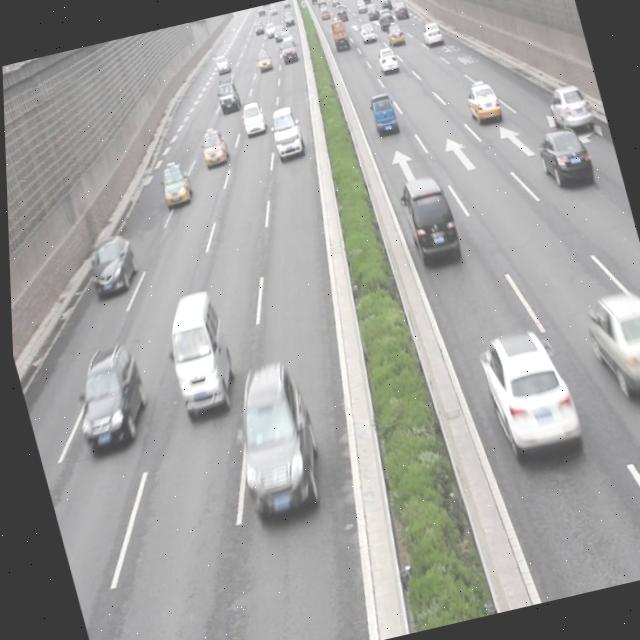car: (213, 356, 328, 526), (471, 326, 578, 464), (59, 338, 153, 451), (574, 281, 640, 406), (530, 120, 592, 192), (80, 236, 138, 298), (540, 77, 593, 139), (461, 75, 501, 129), (264, 105, 303, 158), (154, 156, 191, 207), (363, 85, 398, 137), (196, 125, 228, 172), (236, 99, 267, 140)
truck: (153, 287, 236, 417), (395, 174, 458, 267)
